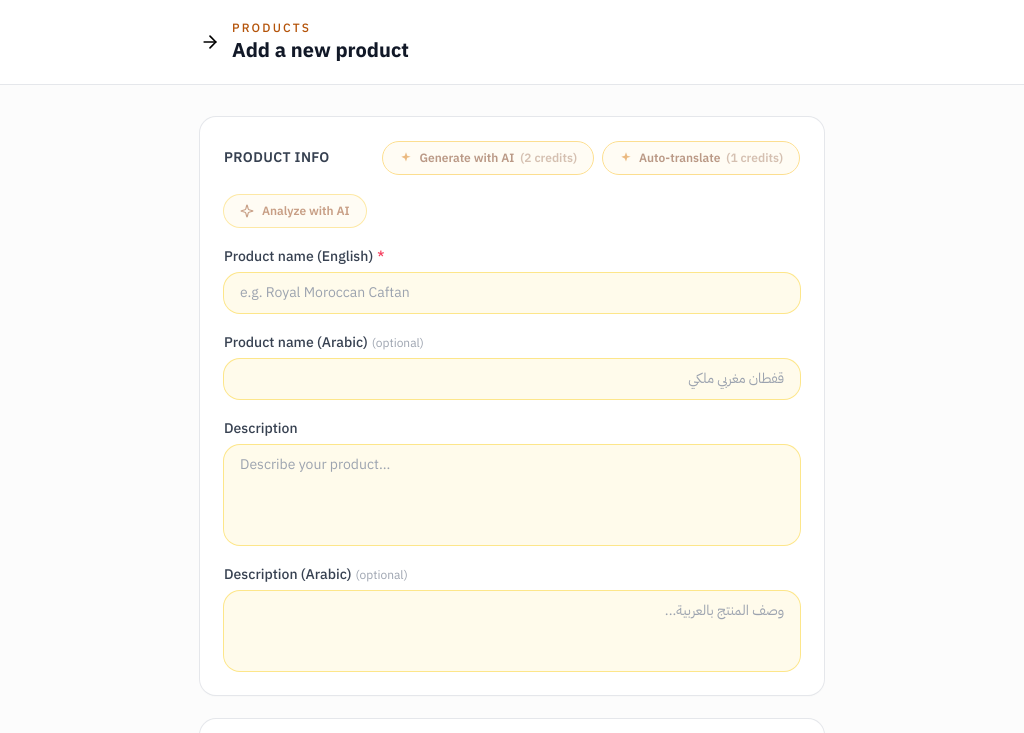
it: SellerNewProductPage — AI features › applies generated content to form fields when Apply is clicked
The width and height of the screenshot is (1024, 733).
Type "Royal Caftan" into the field labelled "Product name (English)*".
click(512, 293); type("Royal Caftan")  # box [224,273,800,313]
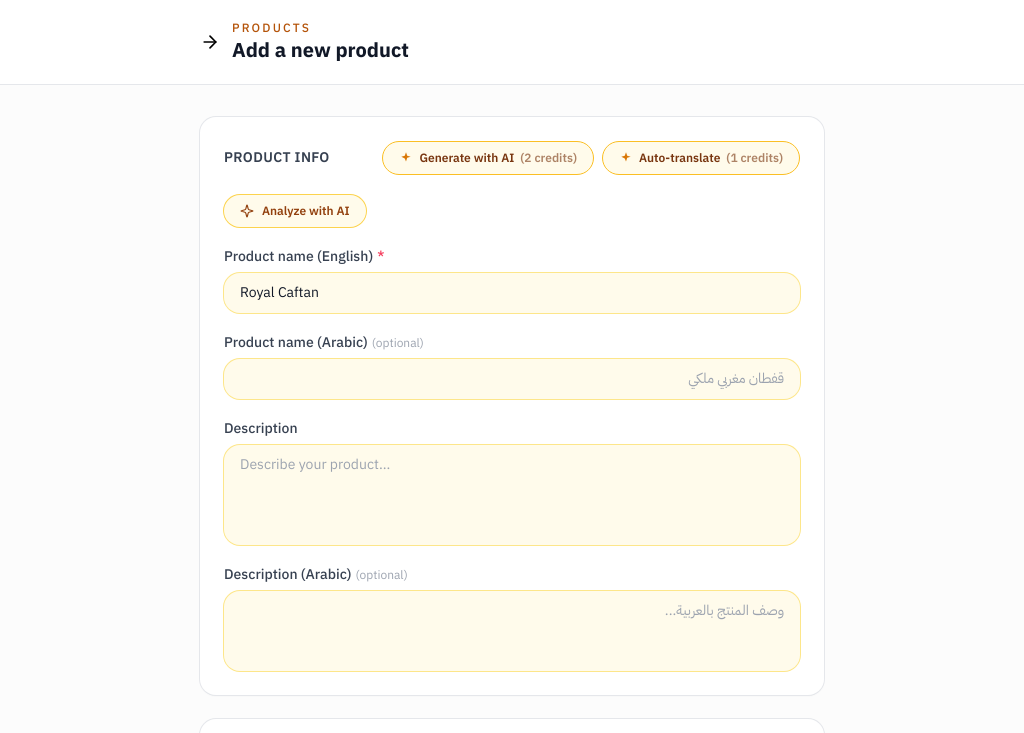
Click the button "Generate with AI (2 credits)".
click(488, 158)  # box [382,141,594,175]
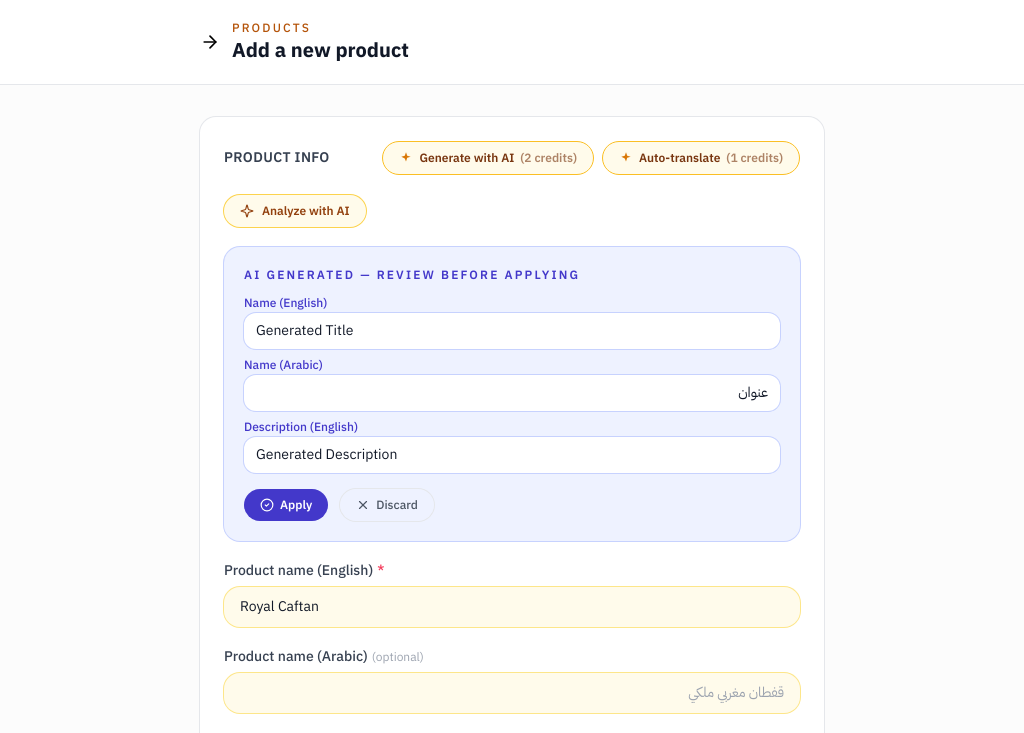
Result: the text "Generated Title" is shown at [244,313,780,349]
Note: Click Apply
Click the button "Apply".
click(286, 505)  # box [244,489,328,521]
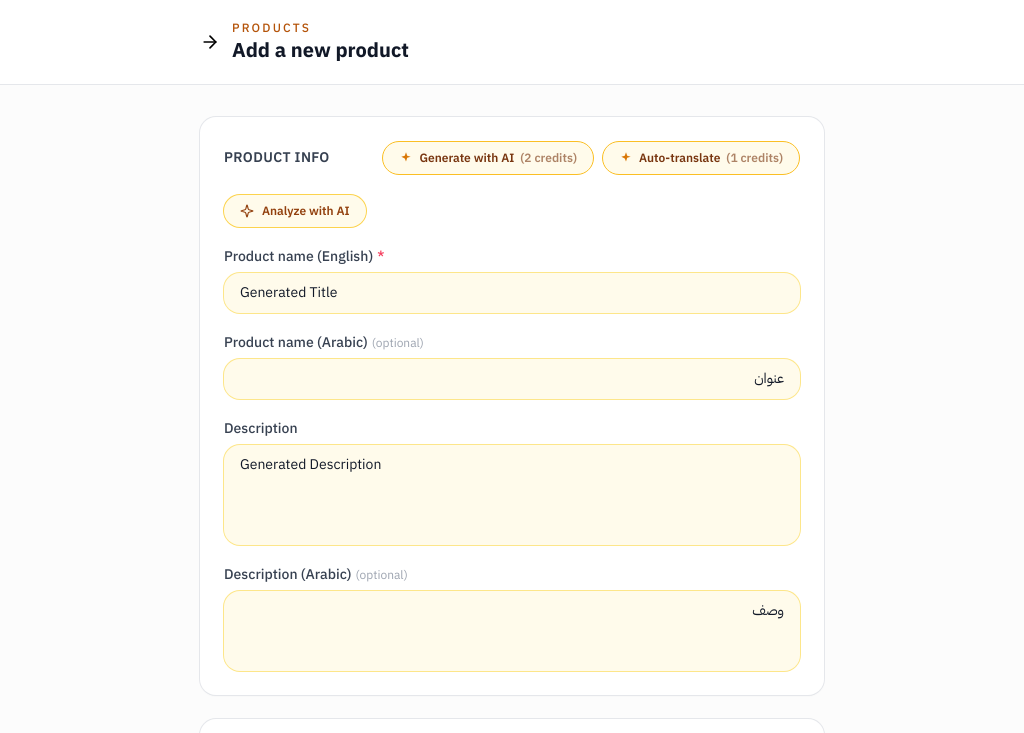
Result: the field labelled "Product name (English)*" holds "Generated Title" at [224,273,800,313]
